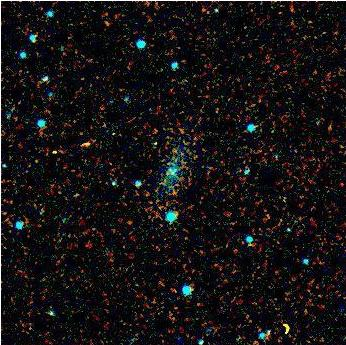star: (72, 130, 102, 160)
